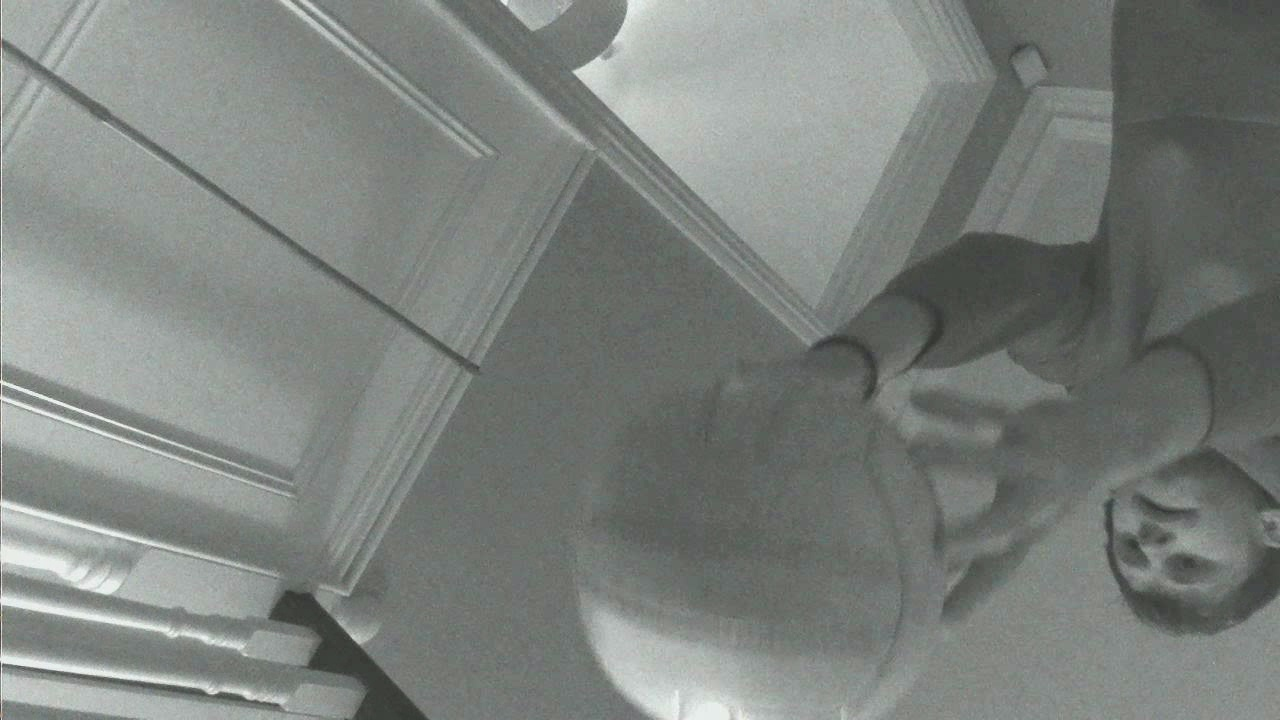Football-Spotter: (575, 373, 949, 719)
